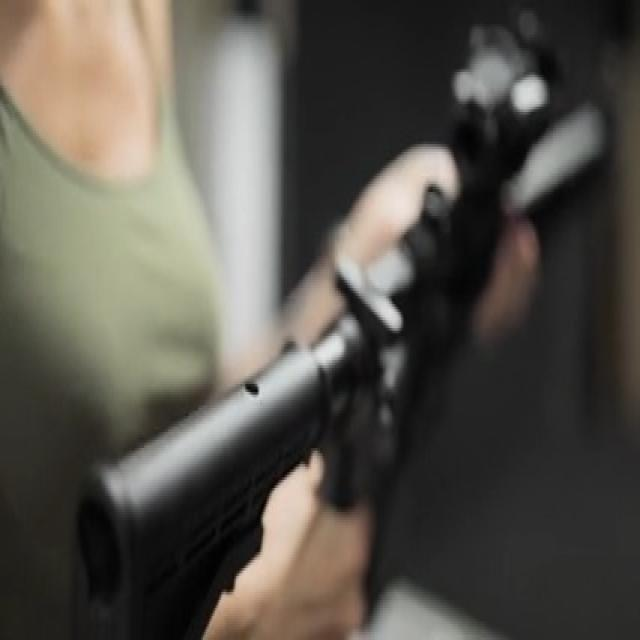Gun_Holder: (70, 4, 640, 628)
